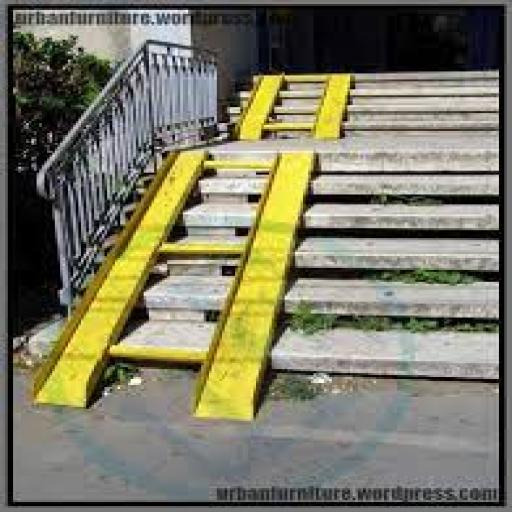ramp: (33, 151, 312, 423), (225, 73, 350, 139)
stairs: (316, 149, 512, 389), (347, 68, 512, 154)
